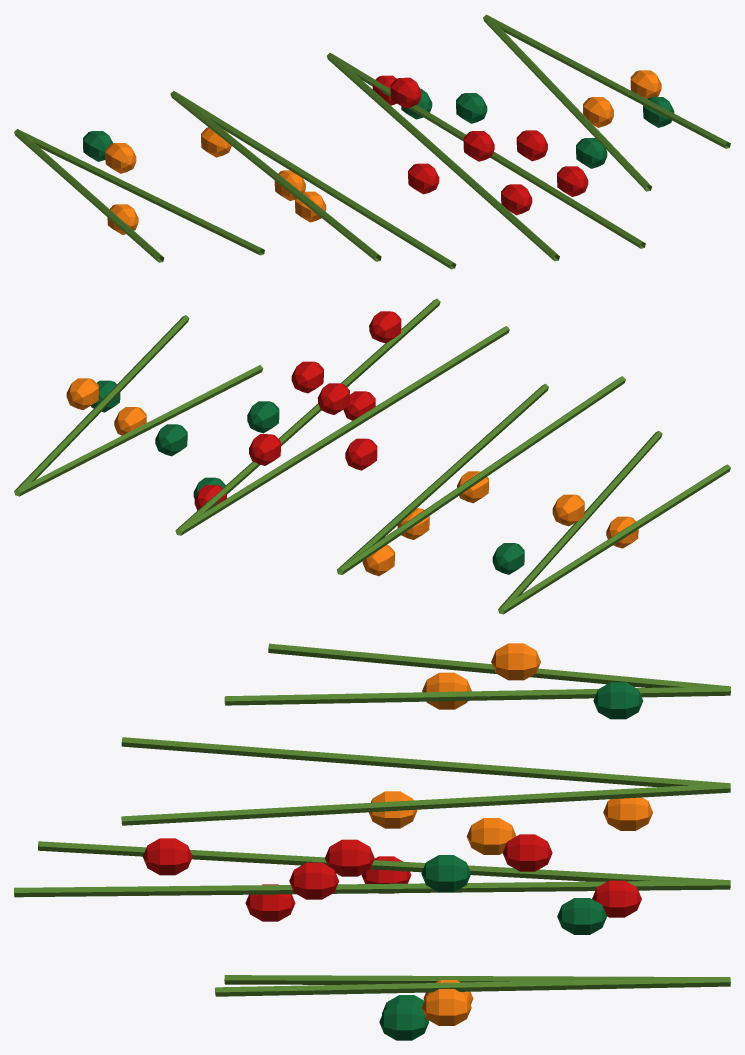
File: r9c4_stems.obj
The picture shows the model from 3 angles, top to bottom: view 1: azimuth 30°, elevation 25°; view 2: azimuth 150°, elevation 25°; view 3: azimuth 270°, elevation 25°; orthographic projection. The views are drawn at different scales.
Visible parts, largest first — view 1: r9c4_stems; view 2: r9c4_stems; view 3: r9c4_stems.
Boxes of the visible parts, bbox=[...] form: r9c4_stems: bbox=[14, 14, 730, 269]; r9c4_stems: bbox=[14, 298, 730, 614]; r9c4_stems: bbox=[14, 643, 730, 1040].
Bounding box in the file's own units: 1.67 × 0.2654 × 1.43.
